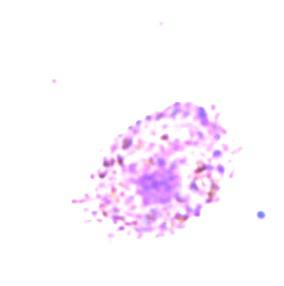Infected: (70, 102, 240, 239)
